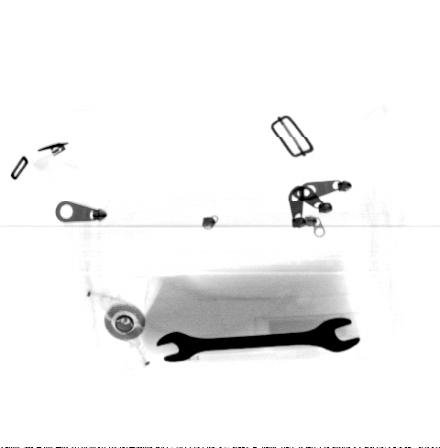Wrench: (154, 315, 362, 364)
